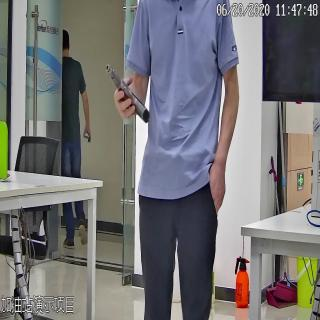gun: (105, 62, 152, 124)
